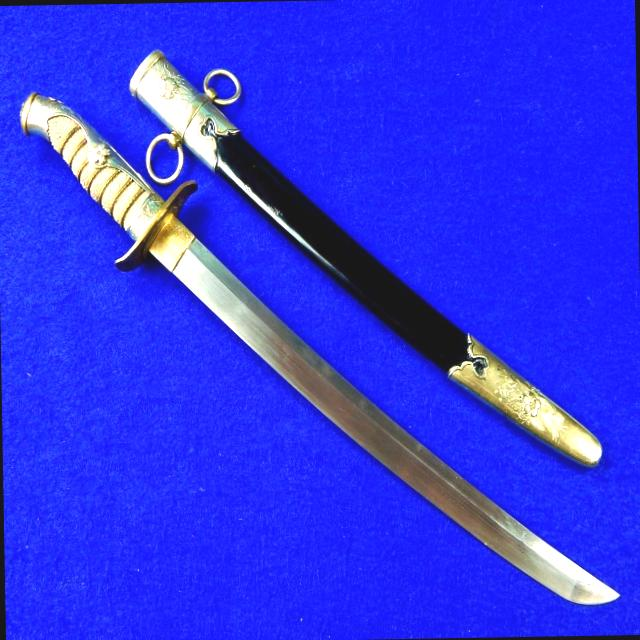short sword: (14, 22, 627, 630)
